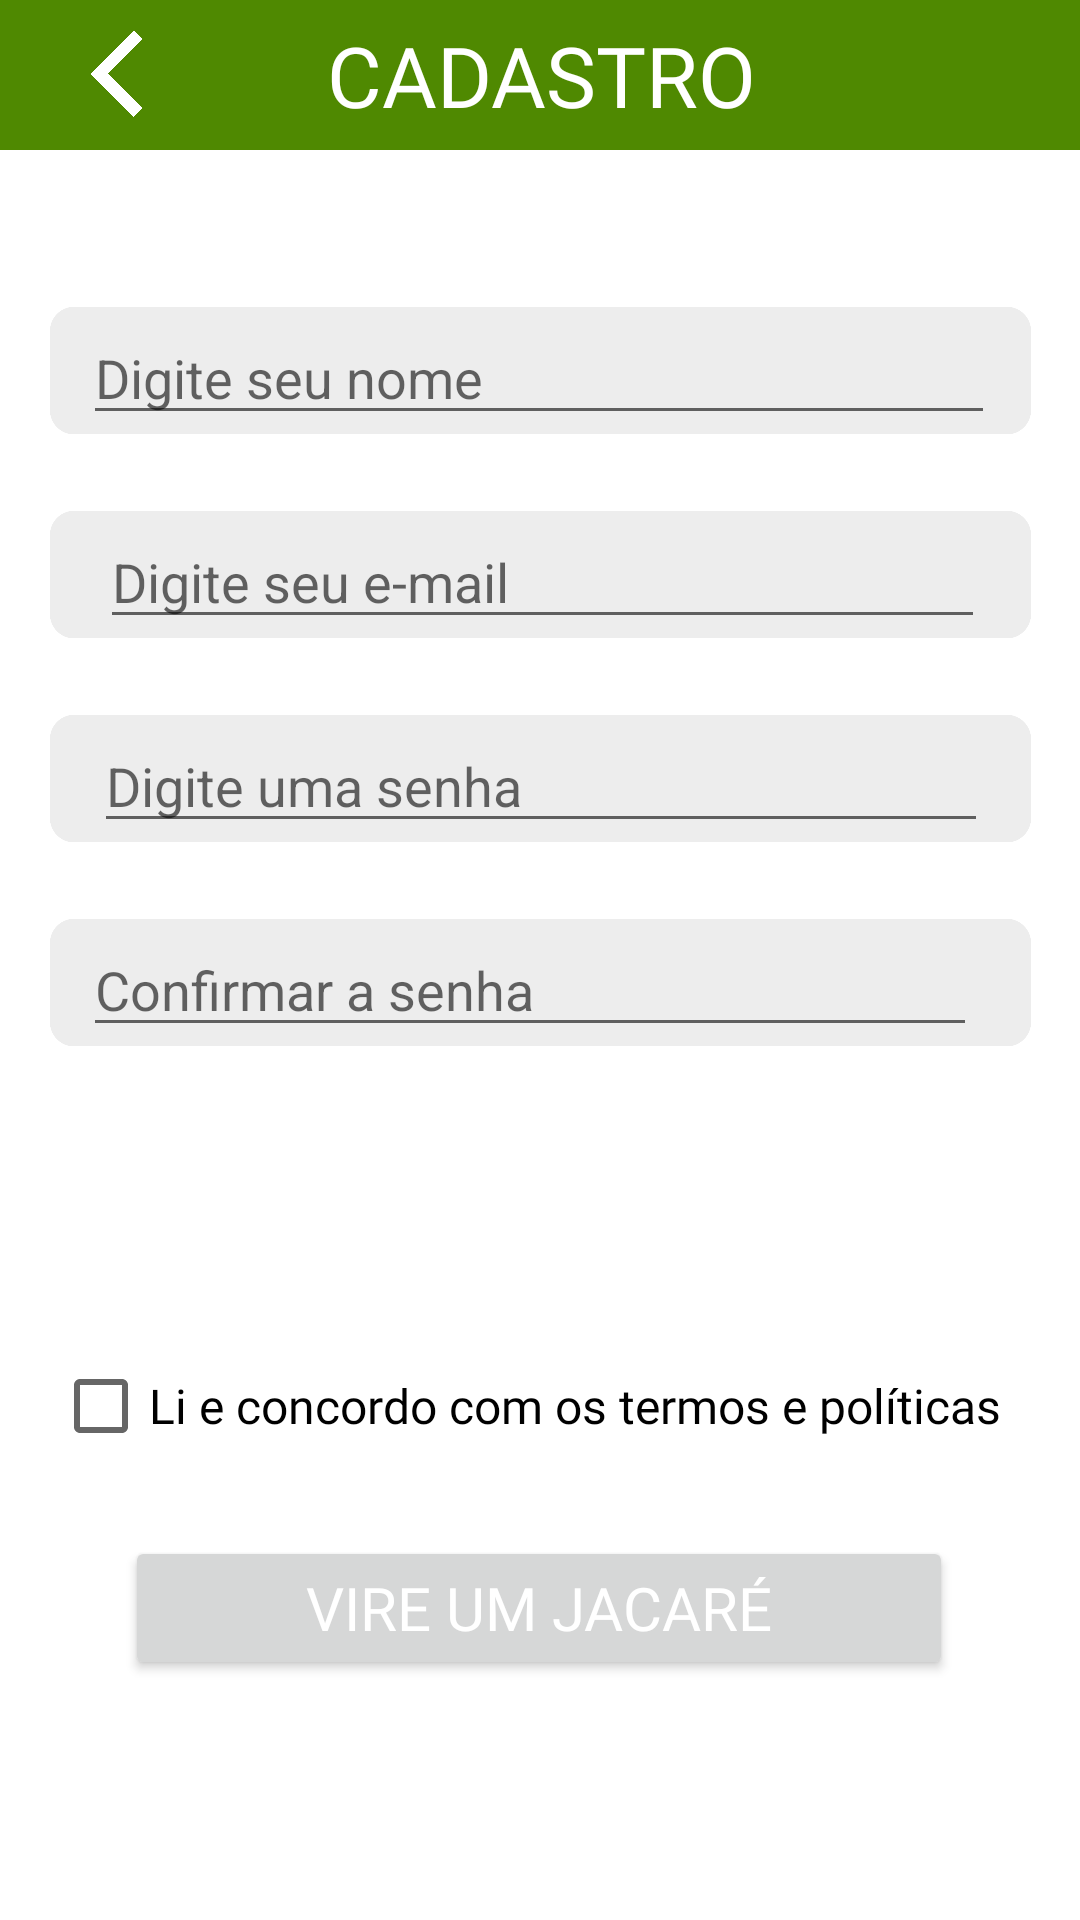

Icon bounding boxes for this 1080px x 1920px phone screenshot, format (x1, y1, x2, y2):
seta branca pg: (91, 31, 142, 117)
